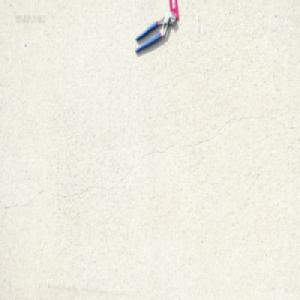Label: (168, 0, 180, 26)
Pliers: (134, 11, 176, 54)
